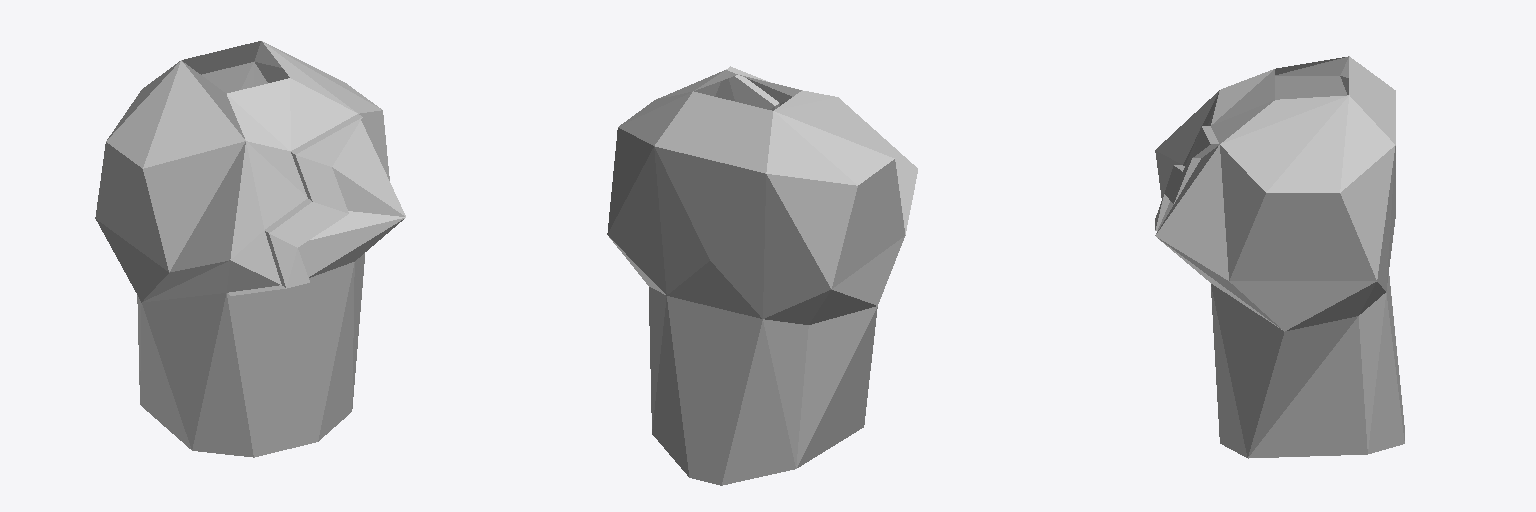
File: torso.obj
3 views of the same model, side by side, from view 1: azimuth 30°, elevation 25°; view 2: azimuth 150°, elevation 25°; view 3: azimuth 270°, elevation 25° (orthographic).
Size of the model in its own units: 0.3 by 0.43 by 0.27.